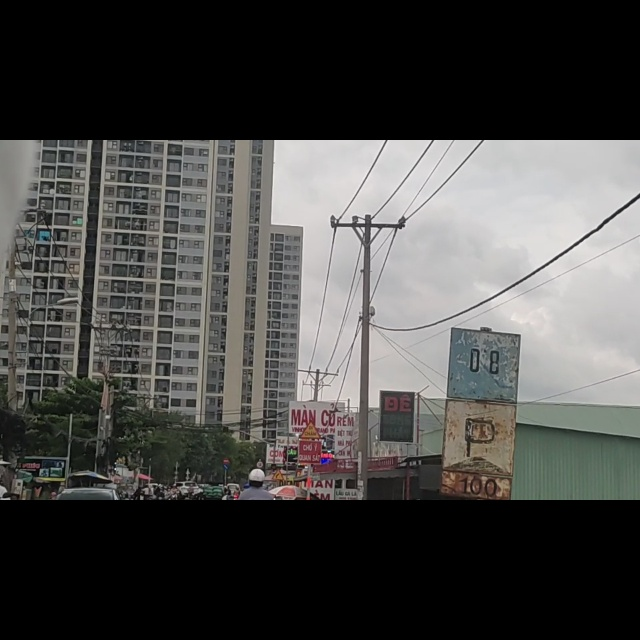Chỉ được rẽ phải: (223, 464, 230, 470)
Chỗ ngoặt nguy hiểm bên phải: (271, 469, 285, 481)
Cấm vào: (223, 458, 230, 463)
Đi chậm: (301, 423, 322, 439)
